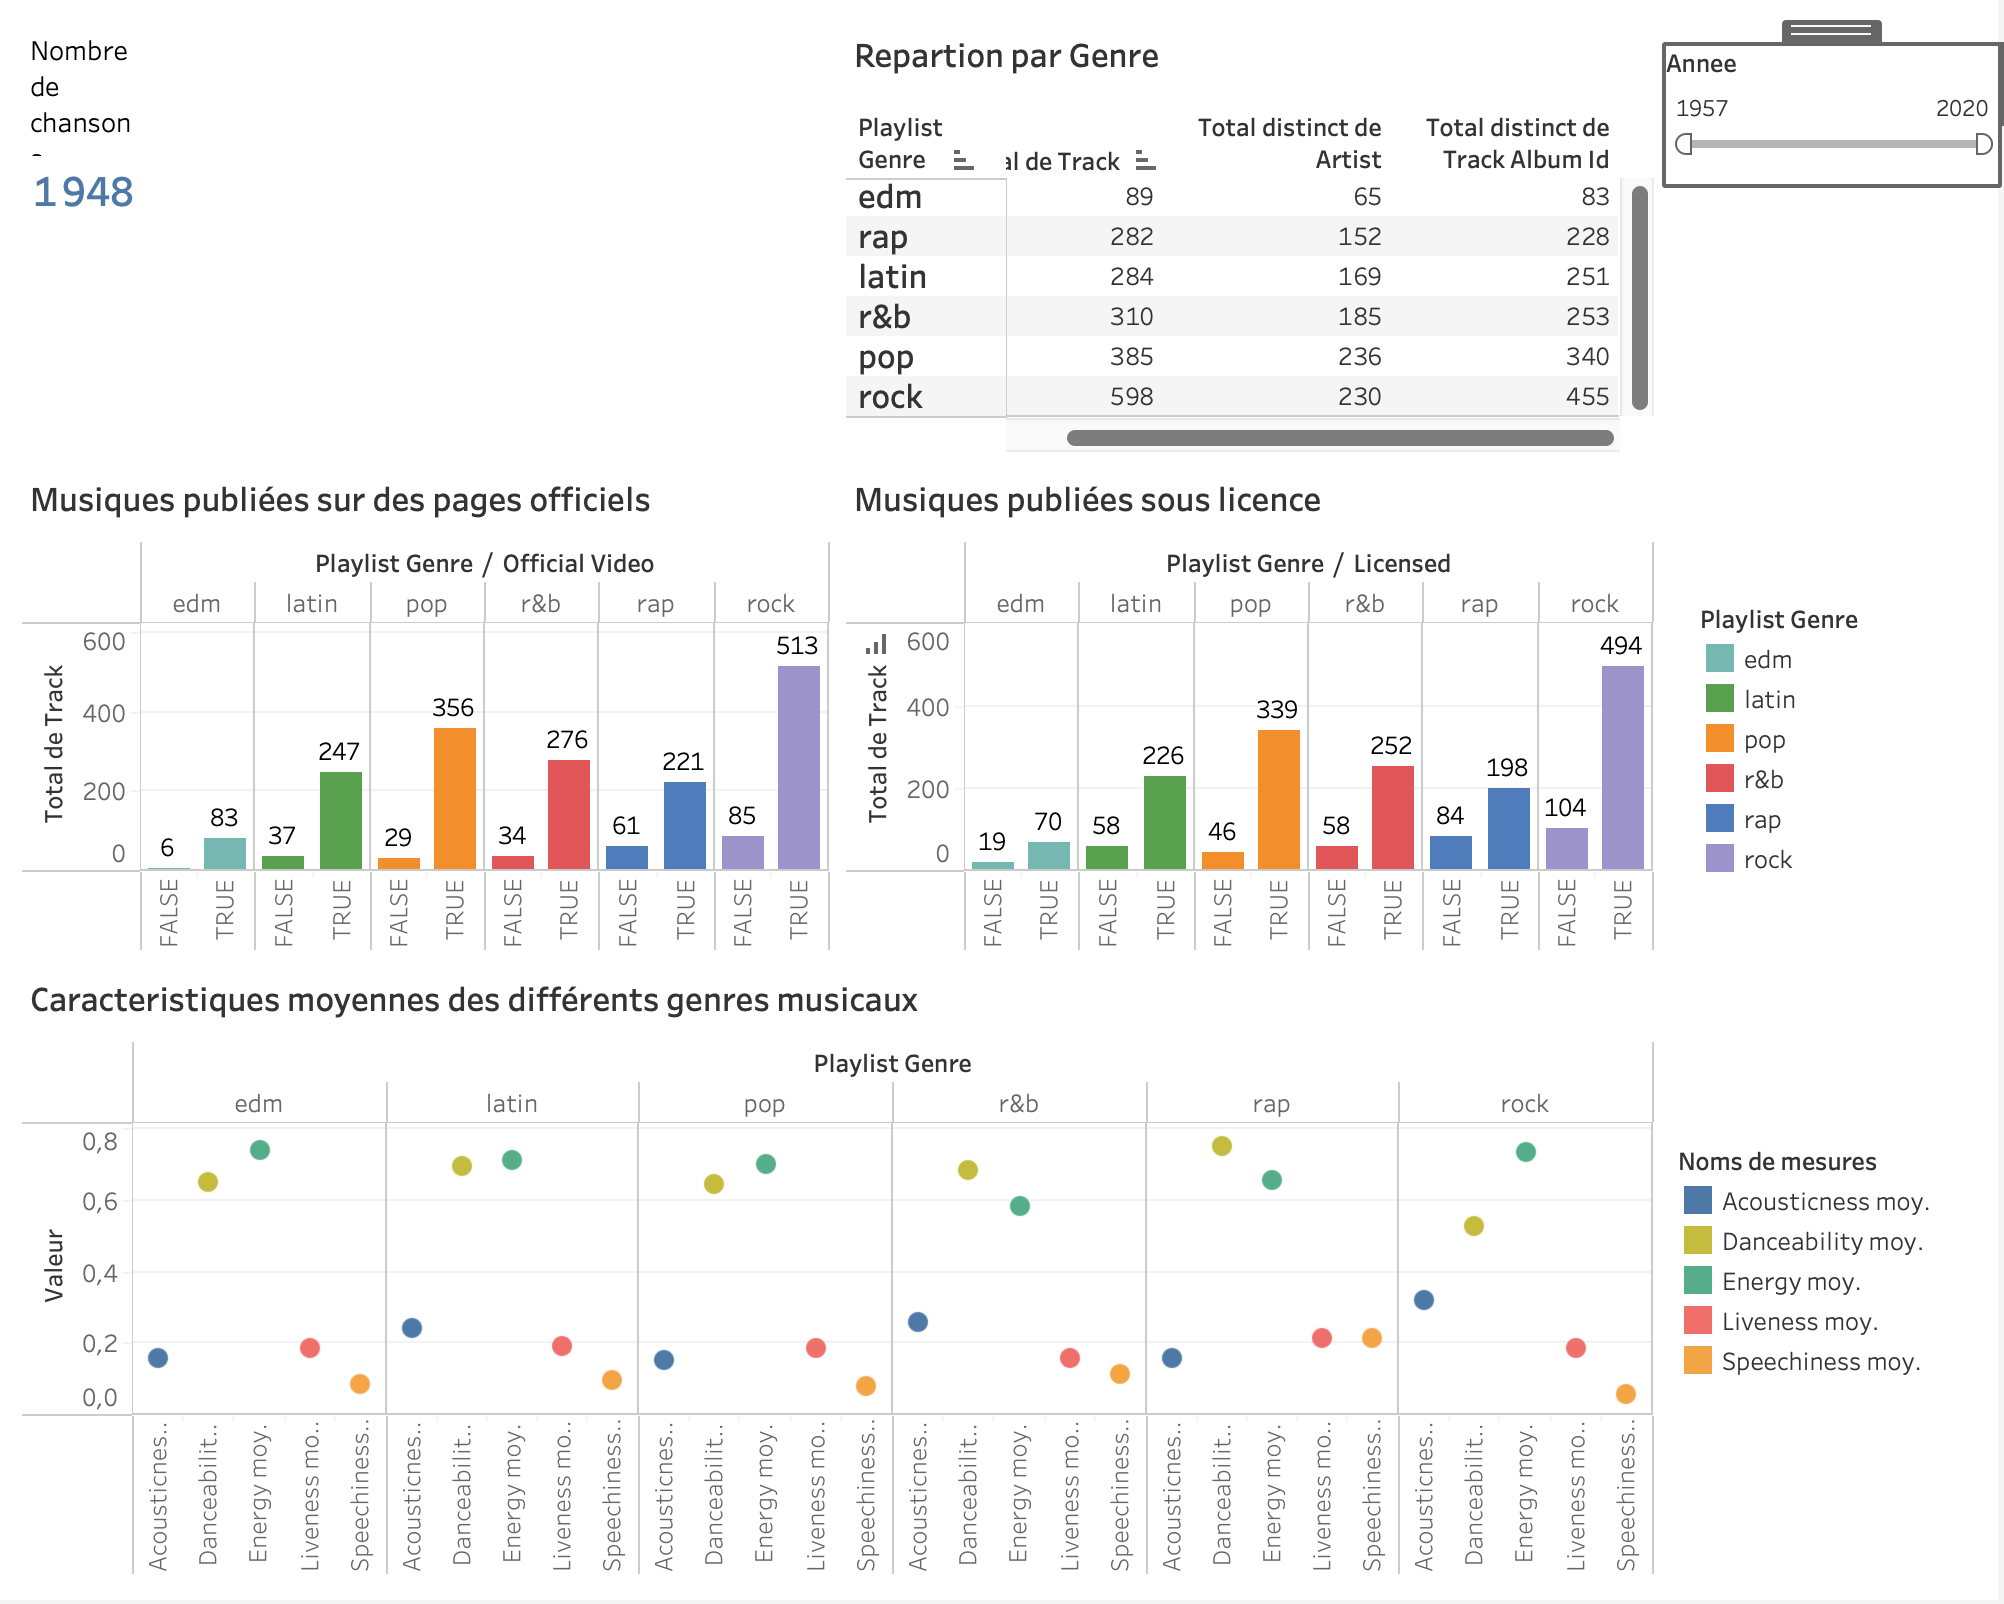

This screenshot's page, from the dashboard's own definition file:
{"tool":"tableau","page":{"name":"Tableau de bord 1","canvas":[1000,800],"ordinal":0},"visuals":[{"type":"worksheet","title":"Nombre de chansons","mark":"Automatic","box":[8,8,412,222]},{"type":"worksheet","title":"Repartion par Genre","mark":"Automatic","rows":["playlist_genre"],"box":[420,8,412,222]},{"type":"filter","title":"Nombre de chansons","param":"[federated.026i9px1e0o6sm1dwv8sp0htycps].[none:Calculation_4772830469488480257:q","box":[834,23,168,69]},{"type":"worksheet","title":"Musiques publiées sur des pages officiels","mark":"Automatic","rows":["Track"],"cols":["playlist_genre","official_video"],"box":[8,230,412,250]},{"type":"worksheet","title":"Musiques publiées sous licence","mark":"Automatic","rows":["Track"],"cols":["playlist_genre","Licensed"],"box":[420,230,412,250]},{"type":"legend","title":"Musiques publiées sur des pages officiels","param":"[federated.026i9px1e0o6sm1dwv8sp0htycps].[none:playlist_genre:nk]","box":[851,301,140,138]},{"type":"worksheet","title":"Caracteristiques moyennes des différents genres musicaux","mark":"Circle","cols":["playlist_genre"],"box":[8,480,824,312]},{"type":"legend","title":"Caracteristiques moyennes des différents genres musicaux","param":"[federated.026i9px1e0o6sm1dwv8sp0htycps].[:Measure Names]","box":[840,572,140,118]}]}

Visuals, with their boxes in screenshot pixels (x1, y1, x2, y2), scaled from the page's 1000x800 canvas onto the 2004x1604 screenshot:
"Nombre de chansons" worksheet: 16:16:842:461
"Repartion par Genre" worksheet: 842:16:1667:461
"Nombre de chansons" filter: 1671:46:2003:184
"Musiques publiées sur des pages officiels" worksheet: 16:461:842:962
"Musiques publiées sous licence" worksheet: 842:461:1667:962
"Musiques publiées sur des pages officiels" legend: 1705:604:1986:880
"Caracteristiques moyennes des différents genres musicaux" worksheet (Circle marks): 16:962:1667:1588
"Caracteristiques moyennes des différents genres musicaux" legend: 1683:1147:1964:1383
